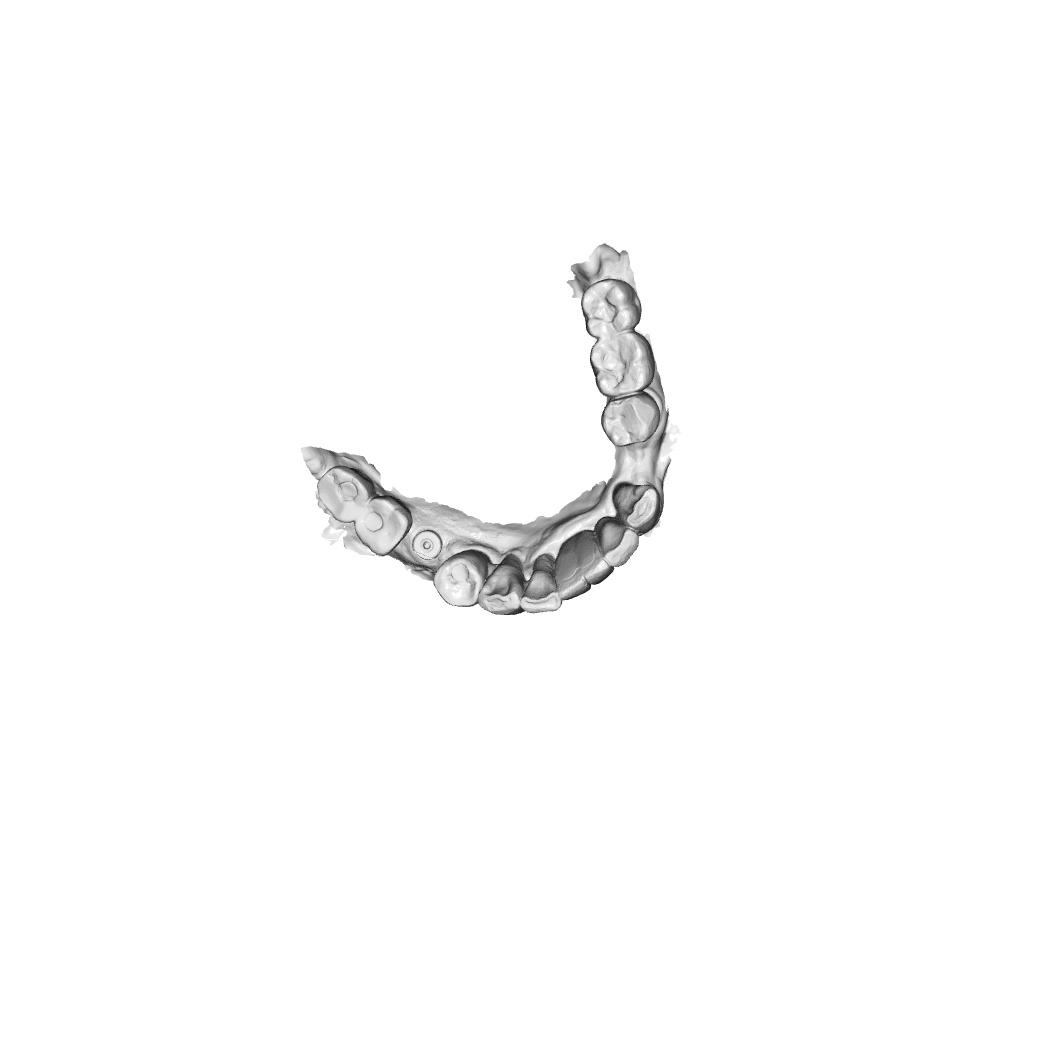canine: (612, 482, 663, 536), (477, 560, 524, 617)
implant: (412, 529, 443, 560)
incisor: (519, 567, 563, 616), (600, 521, 640, 568), (554, 557, 591, 601), (578, 548, 614, 586)
molar: (589, 330, 655, 398), (353, 493, 413, 557), (580, 278, 642, 339), (316, 465, 375, 523)
premolar: (431, 548, 491, 609), (599, 392, 661, 449)
